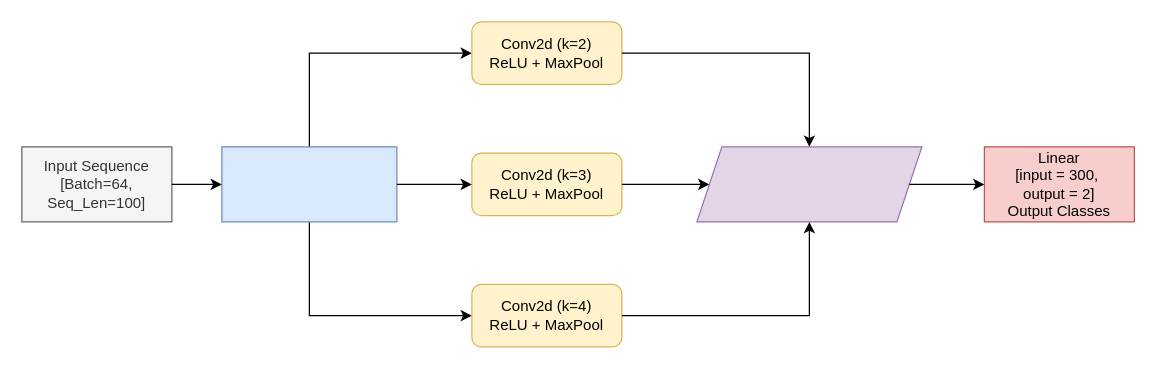
The diagram is 1156 pixels wide and 369 high, and some of its shapes have lost their labels. The shapes that lost their labels are listed below. From the top down, each one's centre as x and y in pixels, then its label:
the point at 309,184: Embedding Layer [Batch = 64 , Seq_Len = 100 , E_dim = 50]
the point at 809,184: Concatenate Dropout = 0.5
